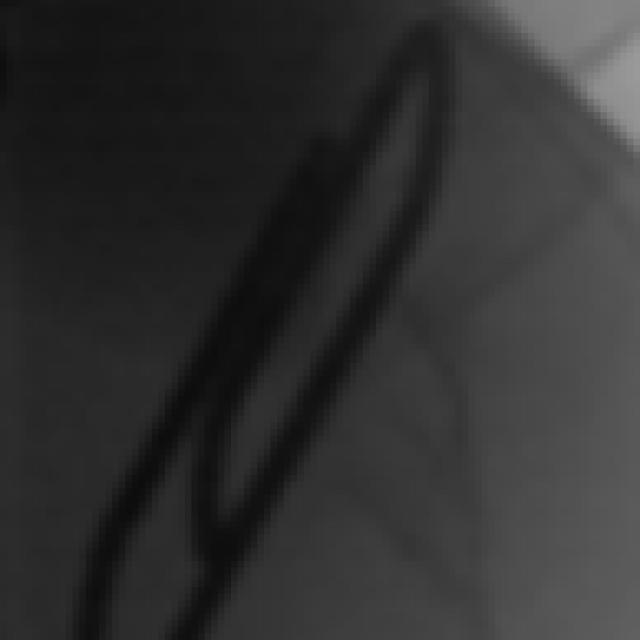BLADE: (561, 1, 640, 178)
